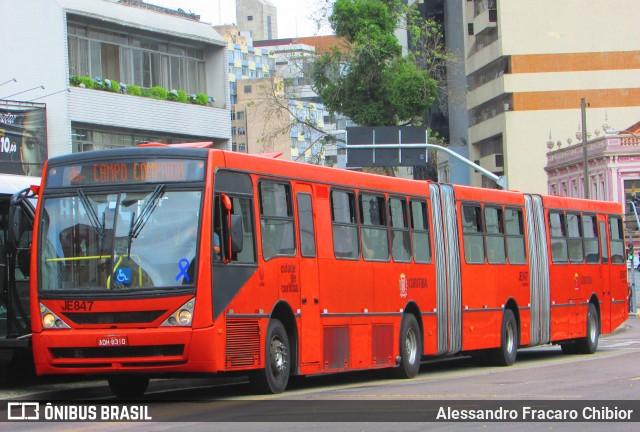CAMPO COMPRIDO: (87, 155, 189, 187)
